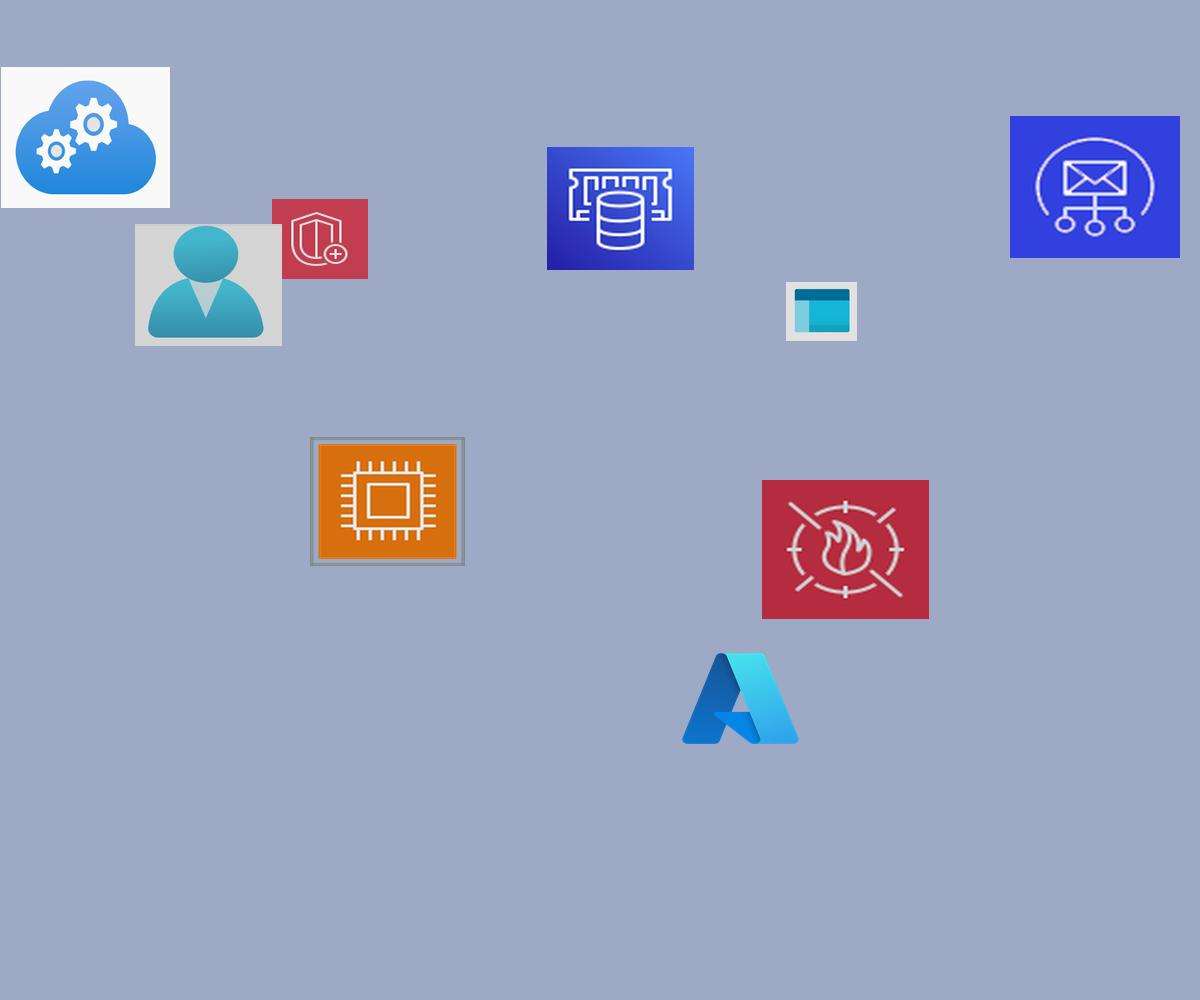AWS-Category_Compute: (310, 437, 465, 566)
AWS-ElastiCache: (547, 147, 694, 270)
AWS-Shield: (272, 199, 368, 279)
AWS-Simple-Email-Service: (1010, 116, 1180, 258)
AWS-WAF: (762, 480, 929, 619)
Azure_cloud_services: (1, 67, 170, 208)
Azure_management-portal: (786, 282, 857, 341)
Azure_services: (677, 646, 804, 751)
Azure_users: (135, 224, 282, 346)
